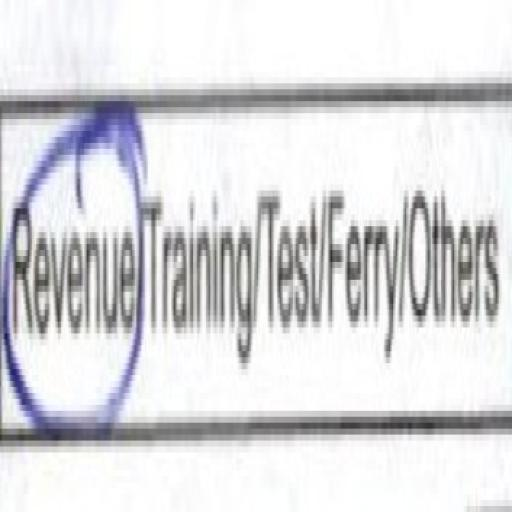check: (0, 54, 142, 498)
